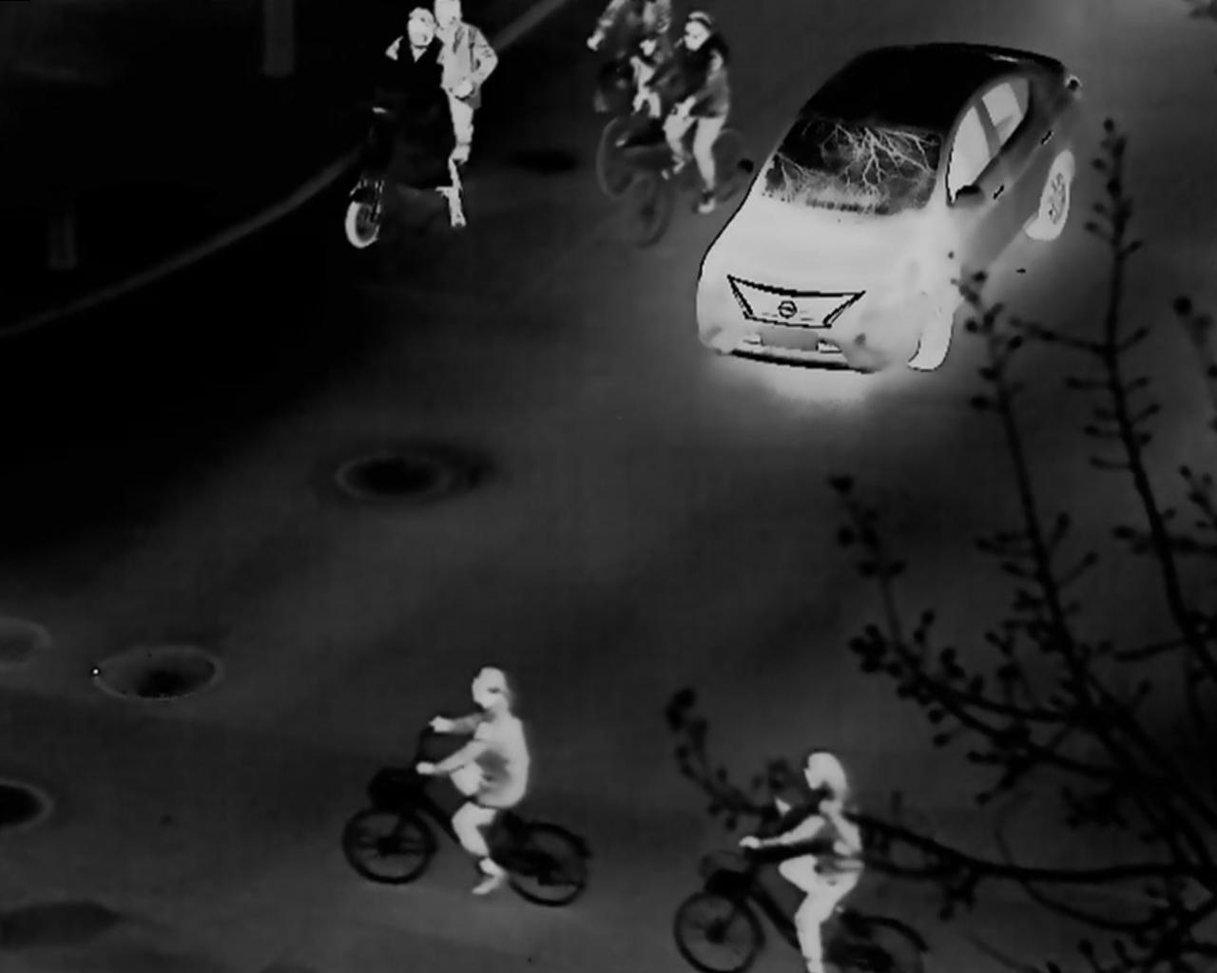person: (737, 749, 864, 973), (415, 665, 528, 898), (638, 10, 726, 217), (426, 2, 495, 165), (380, 5, 444, 63)
